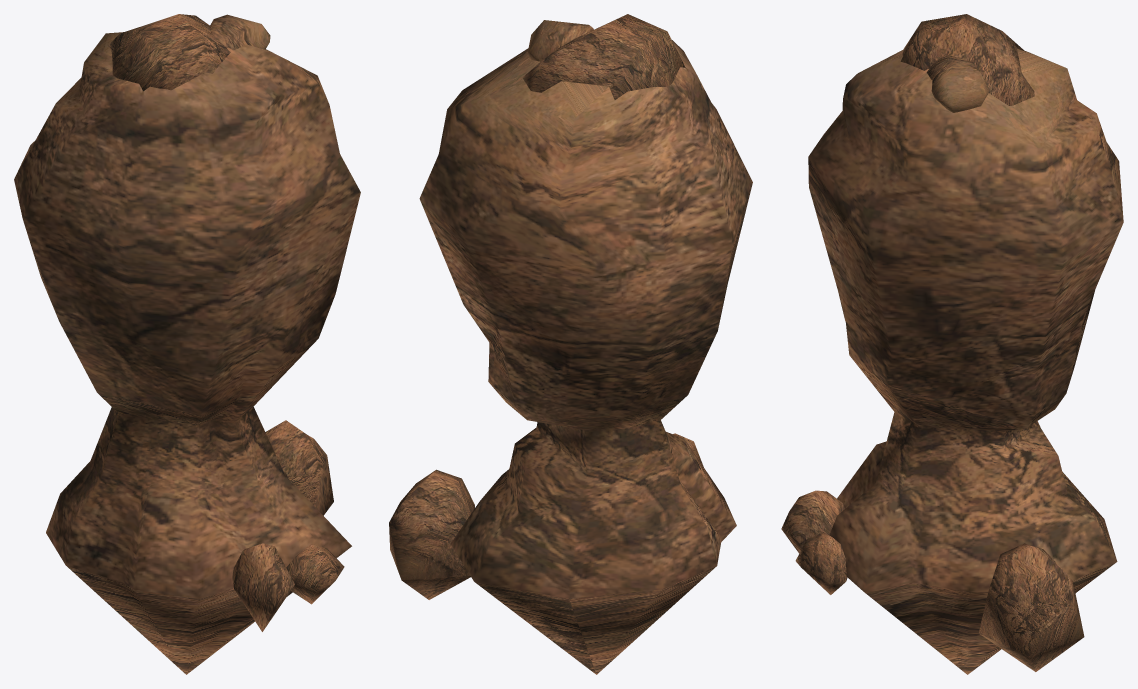
The model's file is rock_tatt_mushroom_a1_l2.fbx.
3 views of the same model, side by side, from view 1: azimuth 30°, elevation 25°; view 2: azimuth 150°, elevation 25°; view 3: azimuth 270°, elevation 25° (orthographic). The views are drawn at different scales.
Parts seen in each view (by area): view 1: mesh_node; view 2: mesh_node; view 3: mesh_node.
Part boxes in pixels (x1=…): mesh_node: x1=14, y1=14, x2=360, y2=674; mesh_node: x1=389, y1=14, x2=752, y2=674; mesh_node: x1=781, y1=14, x2=1123, y2=674.
Bounding box in the file's own units: 32.95 × 63.26 × 30.51.
Materials: 1 (1 with a texture image).
